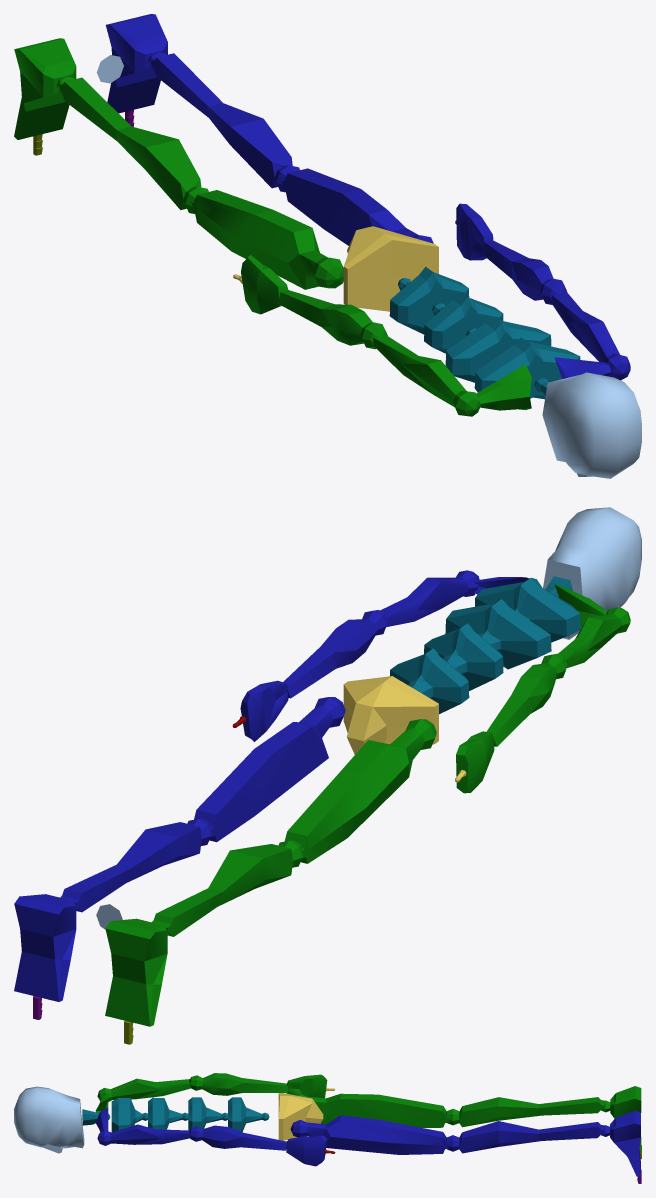
The model's file is oscar.obj.
The picture shows the model from 3 angles, top to bottom: view 1: azimuth 30°, elevation 25°; view 2: azimuth 150°, elevation 25°; view 3: azimuth 270°, elevation 25°; orthographic projection. The views are drawn at different scales.
Parts seen in each view (by area): view 1: Bip001_Head, Bip001_R_Thigh, Bip001_R_Calf, Bip001_Pelvis, Bip001_L_Calf, Bip001_L_Thigh, Bip001_R_Foot, Bip001_L_Foot, Bip001_Spine2, Bip001_R_UpperArm, Bip001_R_Forearm, Bip001_Spine (+8 smaller); view 2: Bip001_R_Thigh, Bip001_L_Thigh, Bip001_Head, Bip001_L_Foot, Bip001_R_Foot, Bip001_R_Calf, Bip001_Pelvis, Bip001_L_Calf, Bip001_Spine2, Bip001_L_Forearm, Bip001_Spine3, Bip001_R_Forearm (+7 smaller); view 3: Bip001_L_Thigh, Bip001_Head, Bip001_R_Thigh, Bip001_L_Calf, Bip001_R_Calf, Bip001_L_Forearm, Bip001_R_Forearm, Bip001_L_Foot, Bip001_Pelvis, Bip001_L_UpperArm, Bip001_R_UpperArm, Bip001_L_Hand (+8 smaller).
Part boxes in pixels (x1,y1,x2,y2): Bip001_Head: (542, 372, 641, 478); Bip001_R_Thigh: (191, 190, 343, 289); Bip001_R_Calf: (59, 77, 208, 213); Bip001_Pelvis: (343, 226, 438, 311); Bip001_L_Calf: (151, 53, 299, 192); Bip001_L_Thigh: (281, 168, 433, 245); Bip001_R_Foot: (14, 38, 76, 139); Bip001_L_Foot: (105, 14, 167, 113); Bip001_Spine2: (445, 316, 551, 382); Bip001_R_UpperArm: (373, 335, 480, 416); Bip001_R_Forearm: (278, 290, 387, 349); Bip001_Spine: (389, 266, 469, 334); Bip001_R_Thigh: (284, 719, 436, 863); Bip001_L_Thigh: (194, 697, 345, 842); Bip001_Head: (543, 507, 641, 639); Bip001_L_Foot: (14, 894, 76, 1001); Bip001_R_Foot: (105, 918, 167, 1026); Bip001_R_Calf: (152, 840, 303, 936); Bip001_Pelvis: (343, 676, 438, 754); Bip001_L_Calf: (60, 819, 211, 912); Bip001_Spine2: (445, 599, 551, 669); Bip001_L_Forearm: (283, 610, 387, 698); Bip001_Spine3: (475, 577, 580, 642); Bip001_R_Forearm: (486, 653, 567, 746); Bip001_L_Thigh: (290, 1115, 449, 1154); Bip001_Head: (14, 1086, 84, 1153); Bip001_R_Thigh: (296, 1093, 450, 1127); Bip001_L_Calf: (446, 1121, 604, 1153); Bip001_R_Calf: (446, 1097, 604, 1127); Bip001_L_Forearm: (189, 1125, 286, 1150); Bip001_R_Forearm: (189, 1073, 287, 1095); Bip001_L_Foot: (601, 1110, 640, 1176); Bip001_Pelvis: (278, 1093, 323, 1140); Bip001_L_UpperArm: (97, 1124, 190, 1145); Bip001_R_UpperArm: (97, 1078, 191, 1101); Bip001_L_Hand: (286, 1135, 327, 1166).
Size of the model in its own units: 0.465 by 0.2751 by 1.89.
